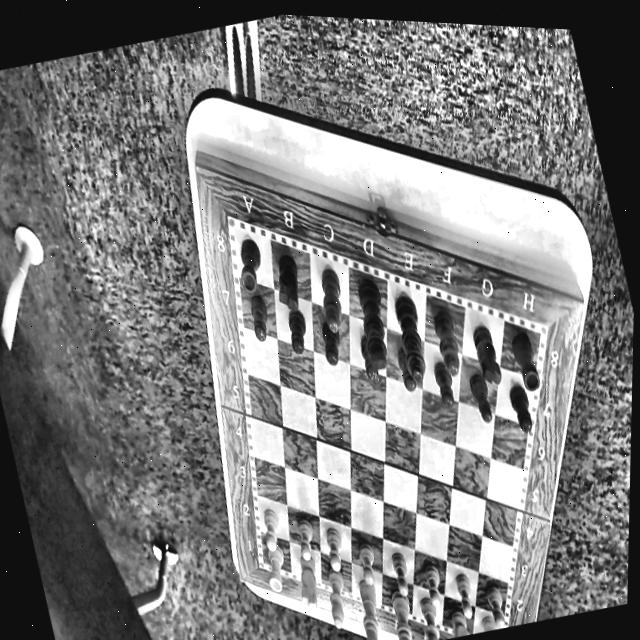chessboard: (234, 230, 538, 635)
